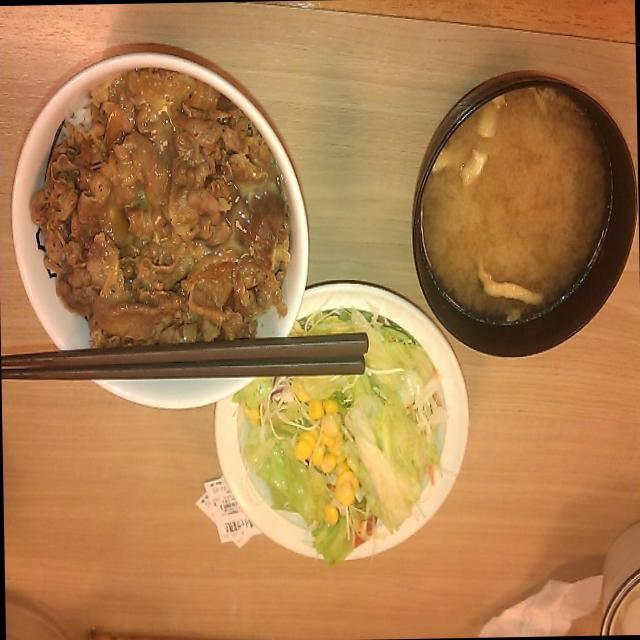Green Salad: (234, 370, 456, 540)
